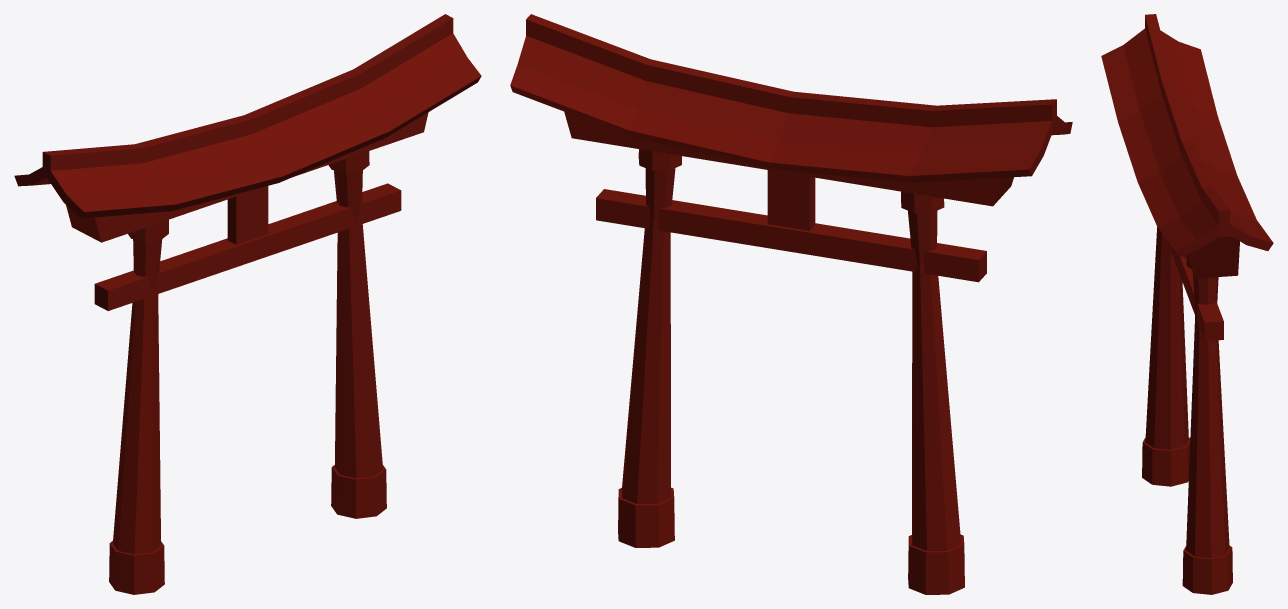
Rendered from toriigate.fbx.
The picture shows the model from 3 angles, left to right: view 1: azimuth 30°, elevation 25°; view 2: azimuth 150°, elevation 25°; view 3: azimuth 270°, elevation 25°; orthographic projection. The views are drawn at different scales.
Visible parts, largest first — view 1: ToriiGate; view 2: ToriiGate; view 3: ToriiGate.
Boxes of the visible parts, x1,y1,x2,y2 form: ToriiGate: [14, 14, 481, 594]; ToriiGate: [510, 14, 1072, 594]; ToriiGate: [1101, 14, 1273, 594].
Bounding box in the file's own units: 144 × 140 × 52.36.
